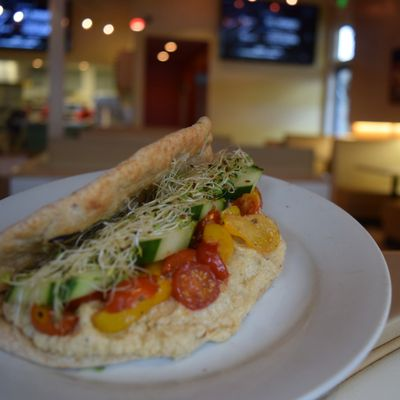pizza: (330, 122, 400, 250)
